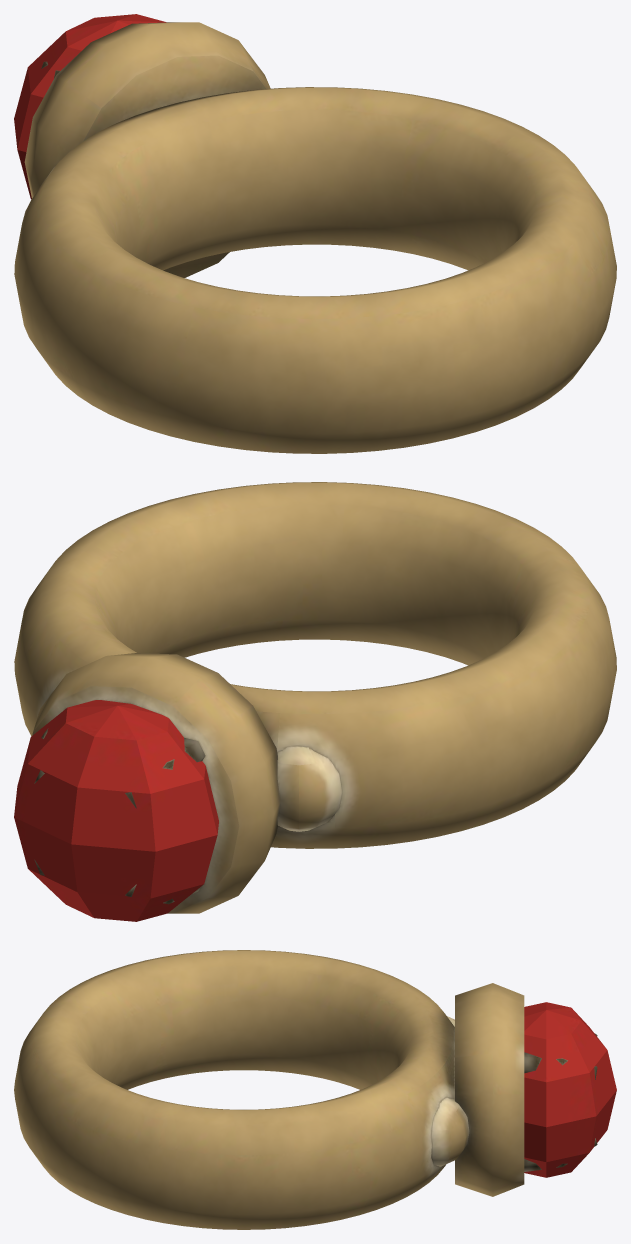
File: ring.glb
3 renders of one model, top to bottom at view 1: azimuth 30°, elevation 25°; view 2: azimuth 150°, elevation 25°; view 3: azimuth 270°, elevation 25°, orthographic. The views are drawn at different scales.
Parts seen in each view (by area): view 1: ring; view 2: ring; view 3: ring.
Part boxes in pixels (x1,y1,x2,y2): ring: (14,14,616,453); ring: (14,482,616,921); ring: (14,950,616,1229).
Bounding box in the file's own units: 0.146 × 0.068 × 0.1914.
Materials: 1 (1 with a texture image).
